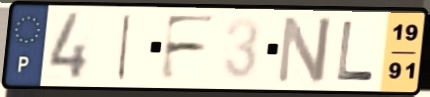3: (222, 16, 265, 83)
4: (46, 10, 92, 83)
F: (157, 13, 220, 83)
I: (114, 11, 135, 82)
L: (334, 19, 376, 84)
N: (273, 13, 335, 86)
